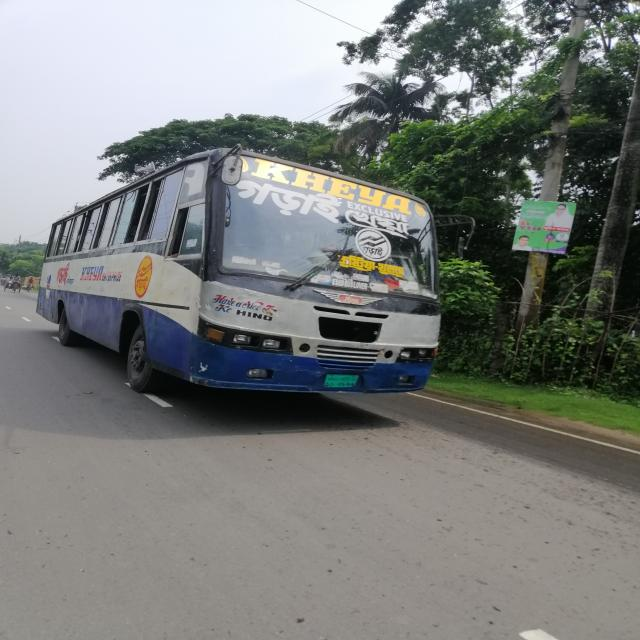Bus: (19, 150, 450, 396)
